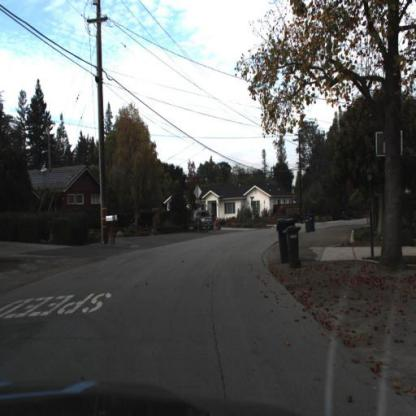car: (194, 208, 214, 231), (211, 213, 223, 234)
pedestrian: (250, 209, 257, 227)
